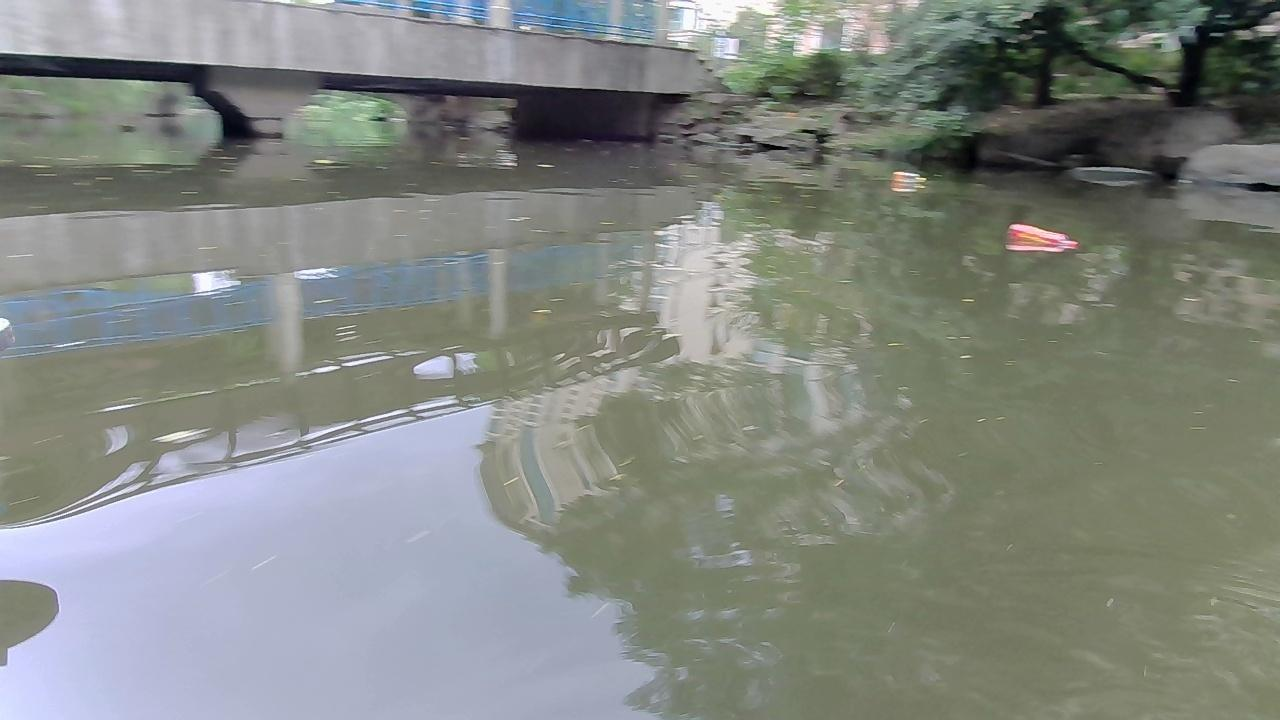bottle: (1007, 219, 1077, 252), (889, 168, 924, 183)
